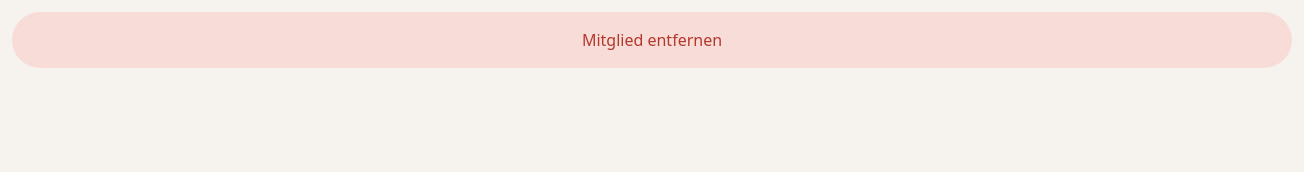
Test: runs the action only after the second, explicit confirmation
Later steps or results of the test are not shown.
Step 1. Click the button "Mitglied entfernen" → (652,40), box [12,12,1292,68]
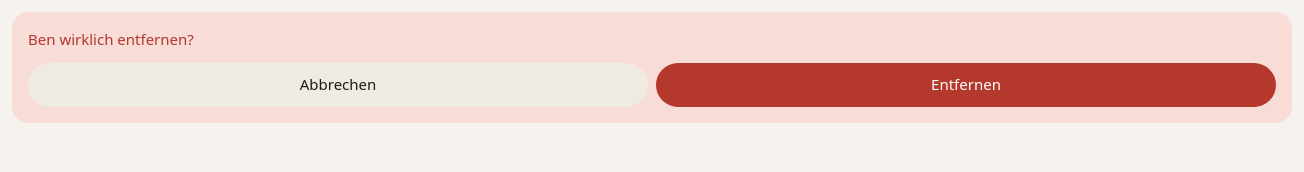
expect the text "Ben wirklich entfernen?" is shown: met, box [28,29,194,49]
